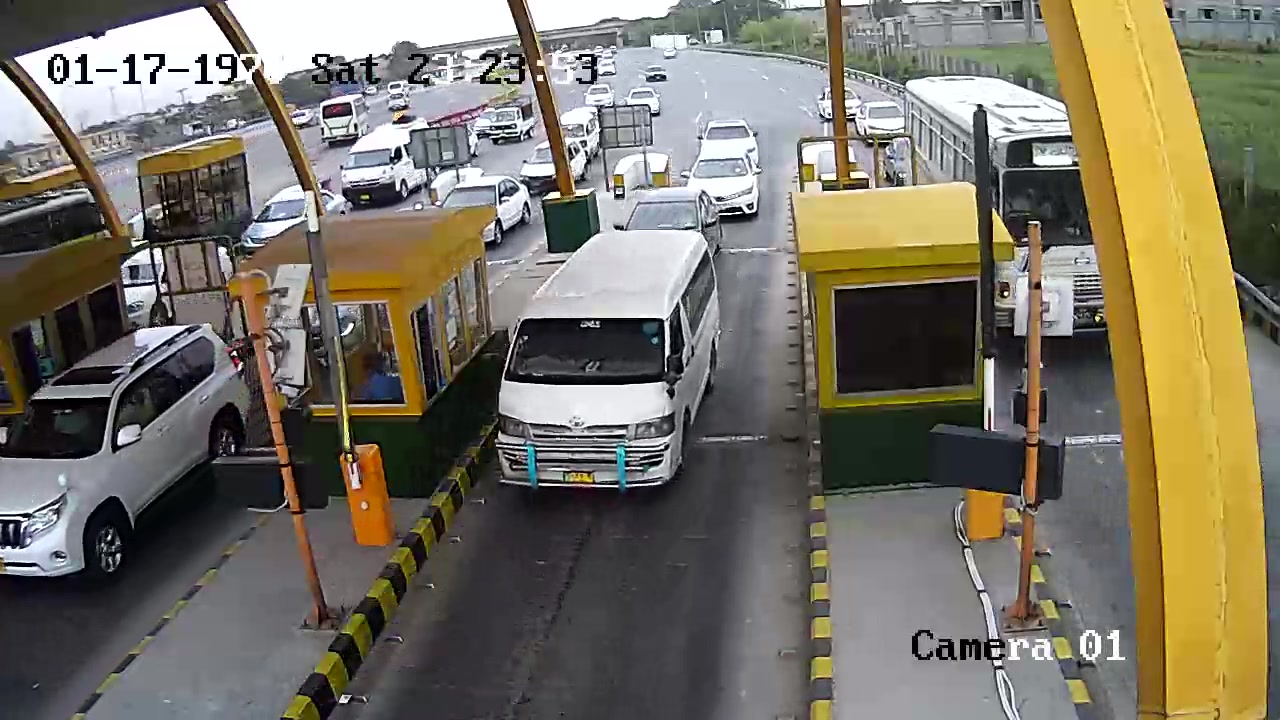F3: (489, 231, 727, 515)
